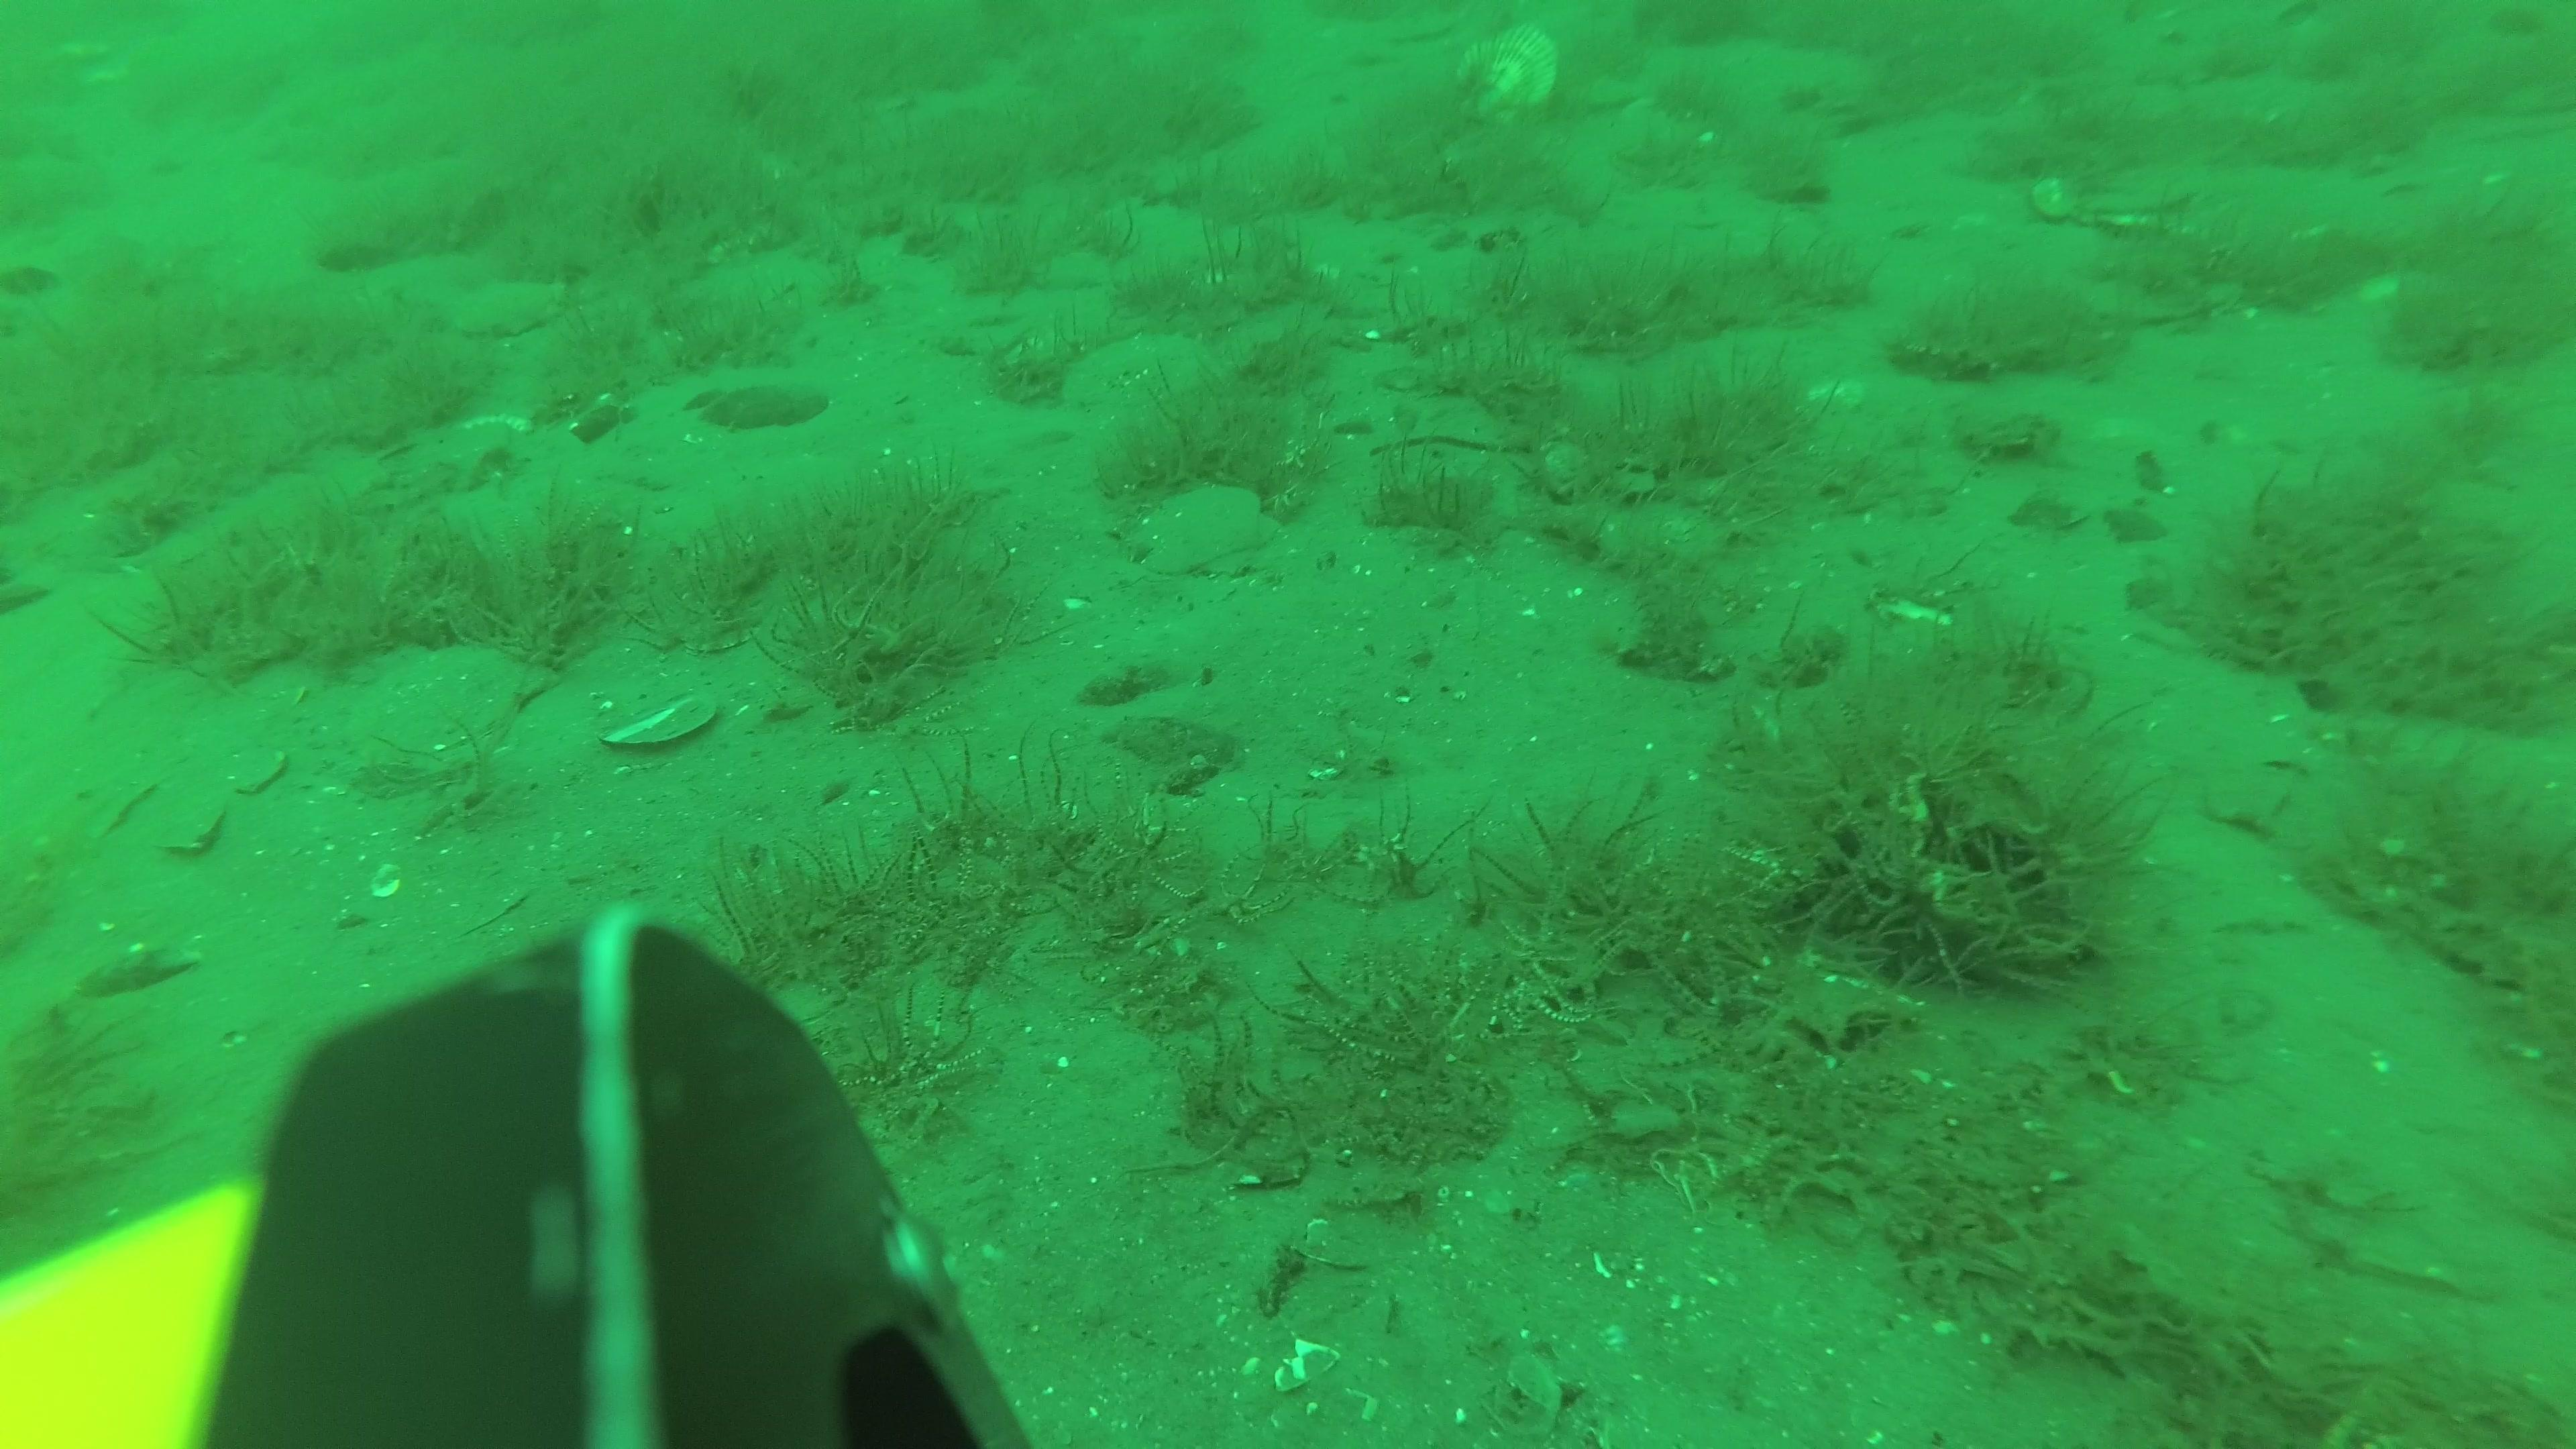scallop: (366, 649, 561, 752), (2040, 159, 2203, 235), (1122, 495, 1277, 571), (1453, 32, 1555, 126), (460, 278, 557, 334)
